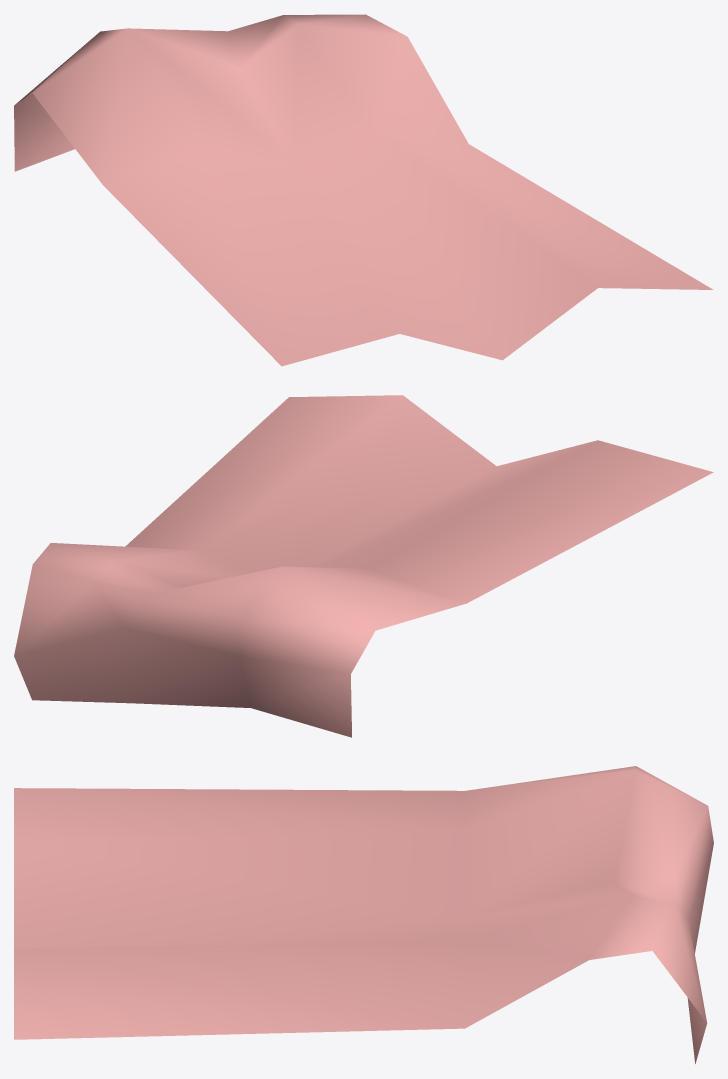
3 views of the same model, one above another, from view 1: azimuth 30°, elevation 25°; view 2: azimuth 150°, elevation 25°; view 3: azimuth 270°, elevation 25° (orthographic). The views are drawn at different scales.
Visible parts, largest first — view 1: Object11; view 2: Object11; view 3: Object11.
Boxes of the visible parts, left/top/right/bottom form: Object11: left=14, top=14, right=713, bottom=366; Object11: left=14, top=395, right=713, bottom=737; Object11: left=14, top=766, right=713, bottom=1063.
Bounding box in the file's own units: 20179 × 7603 × 26985.
